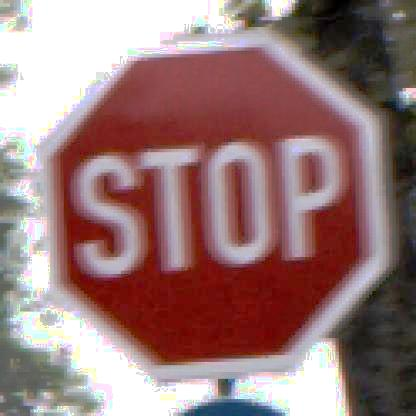Stop Sign: (37, 20, 396, 382)
